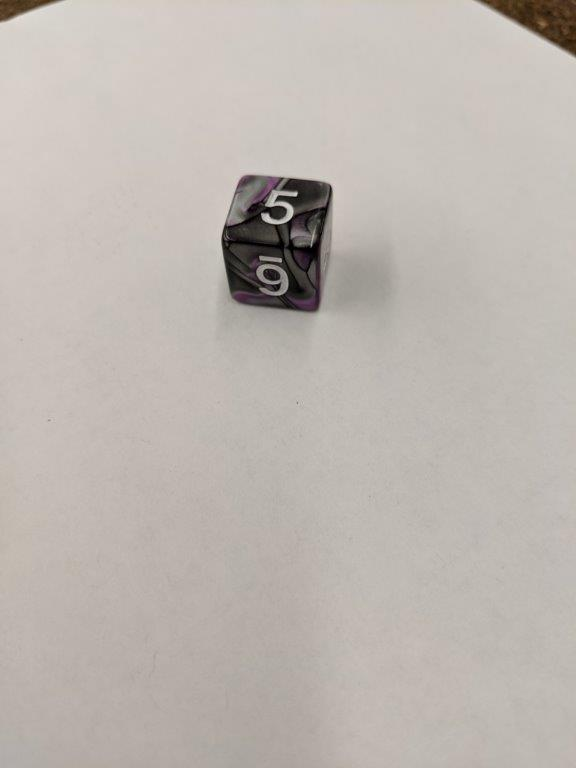d6-5: (220, 173, 336, 317)
